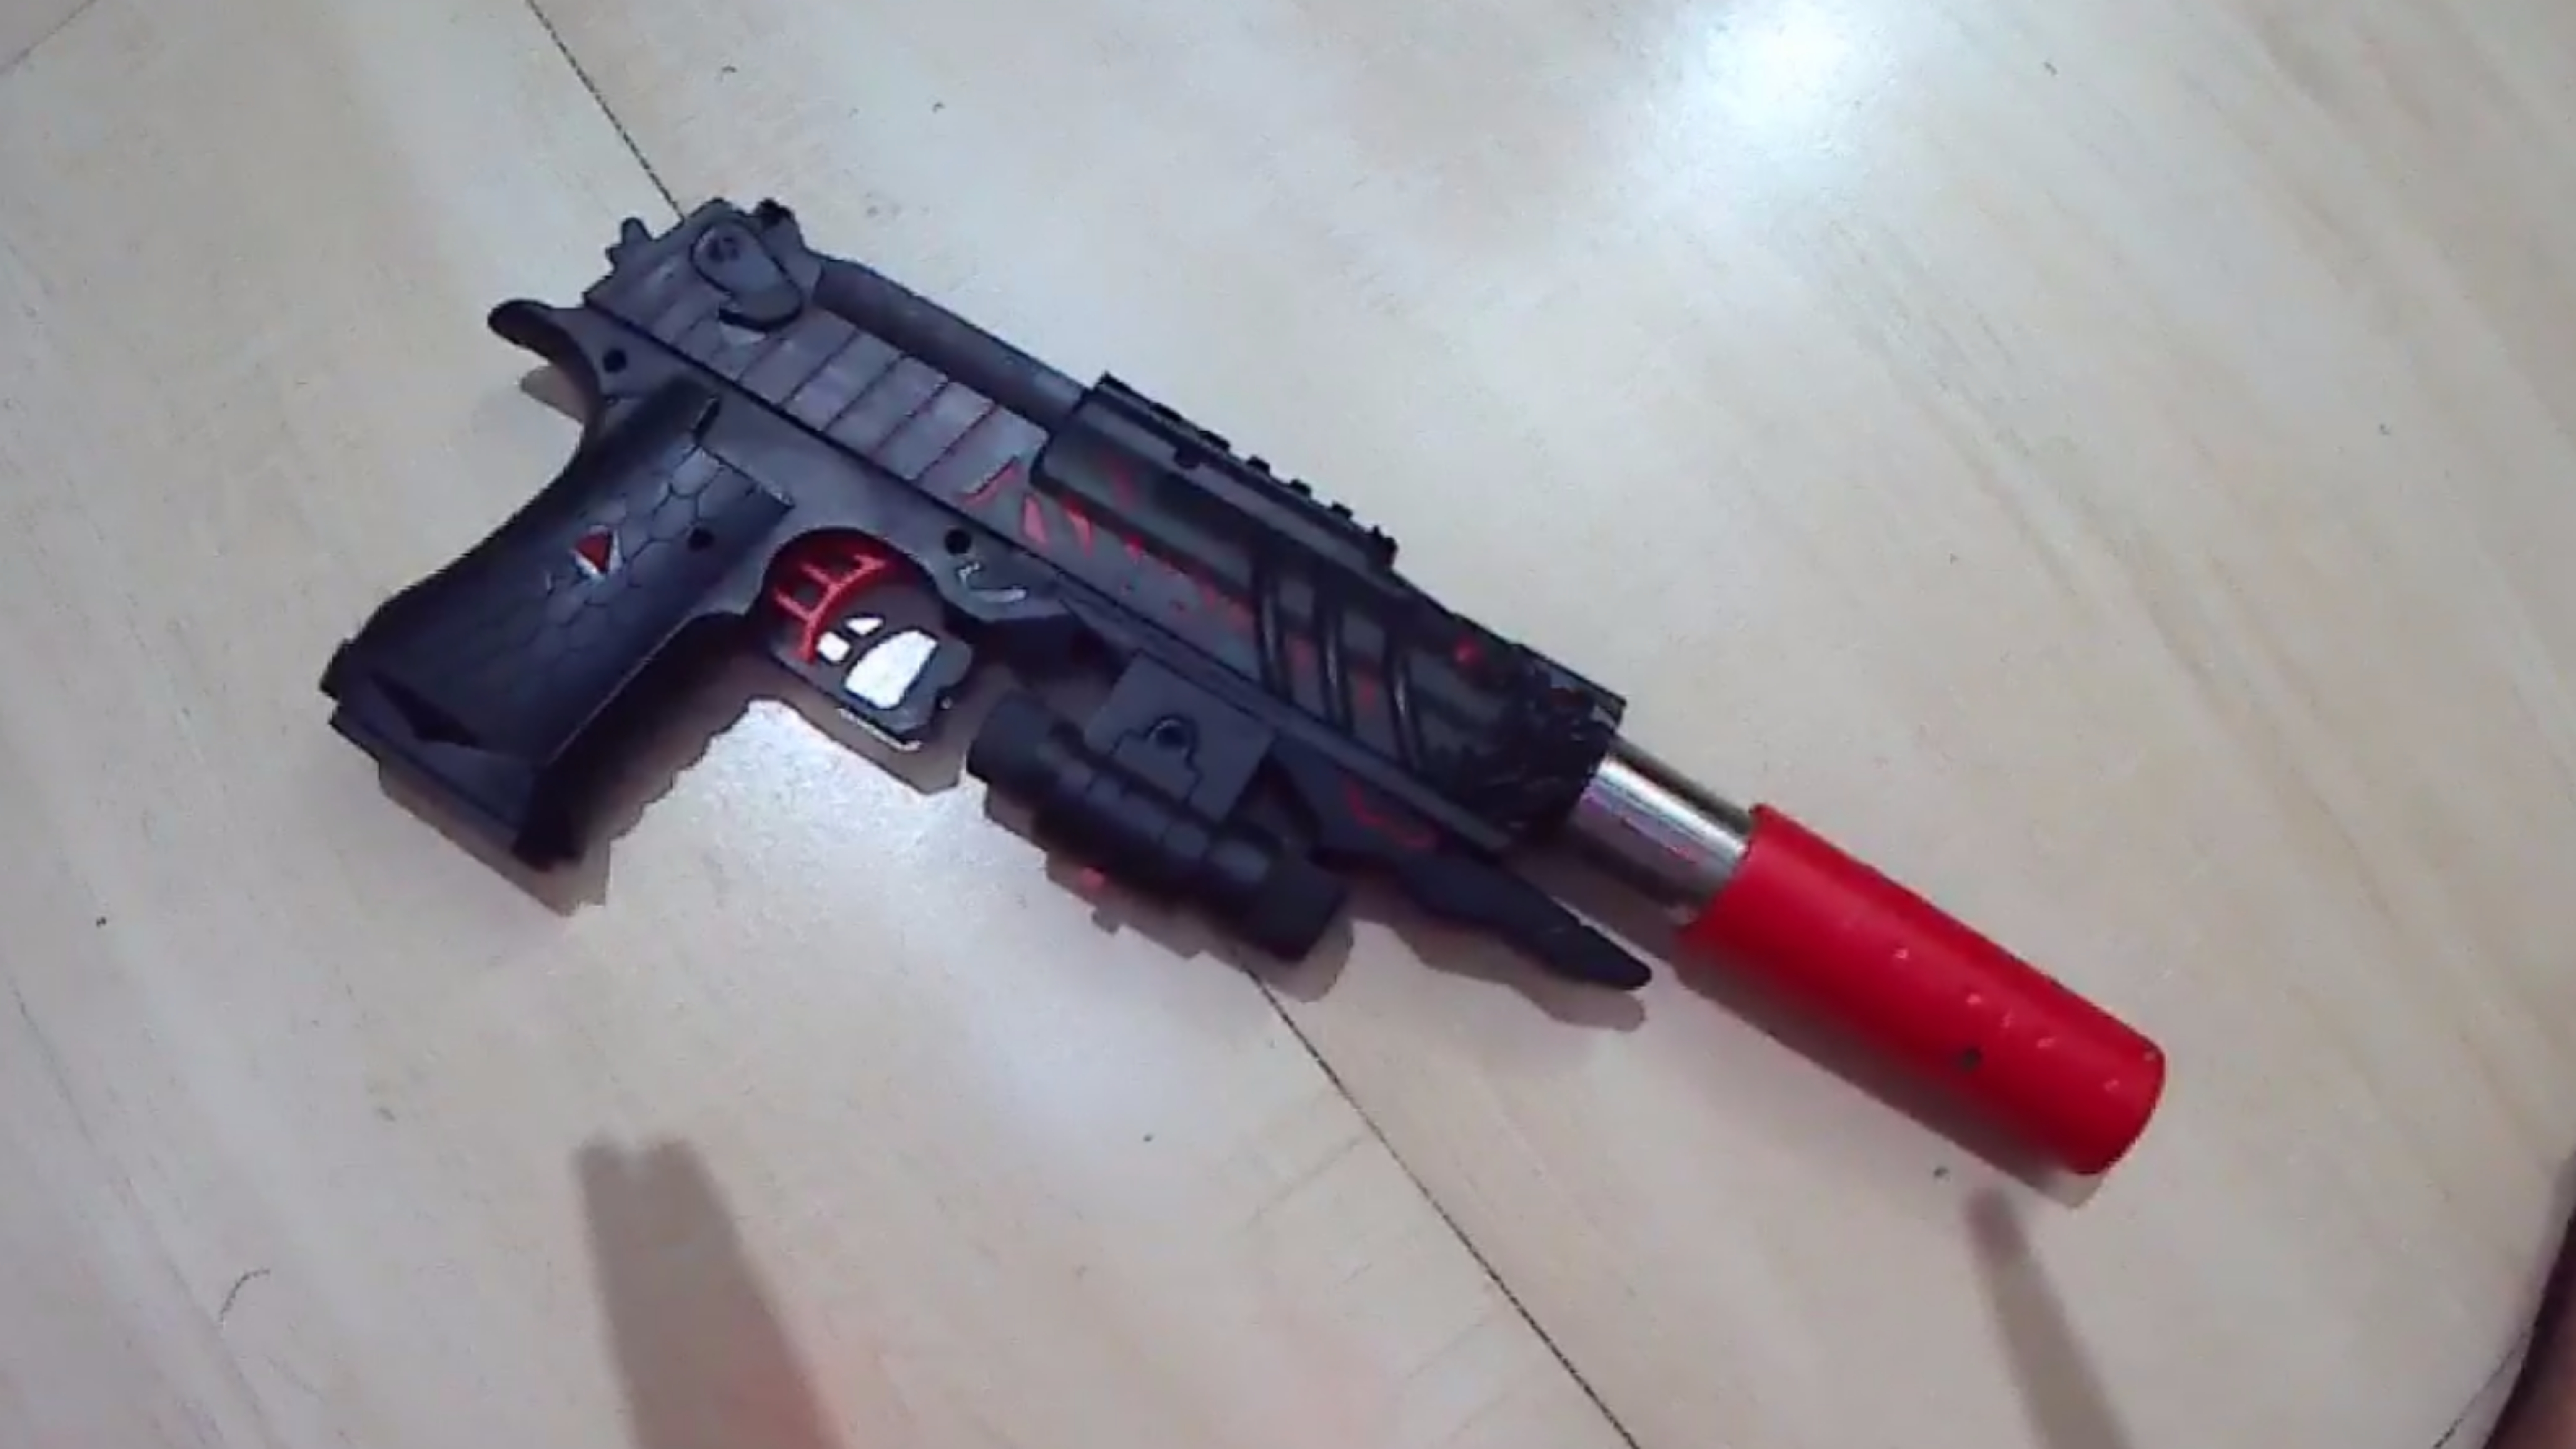handgun: (299, 180, 2185, 1246)
